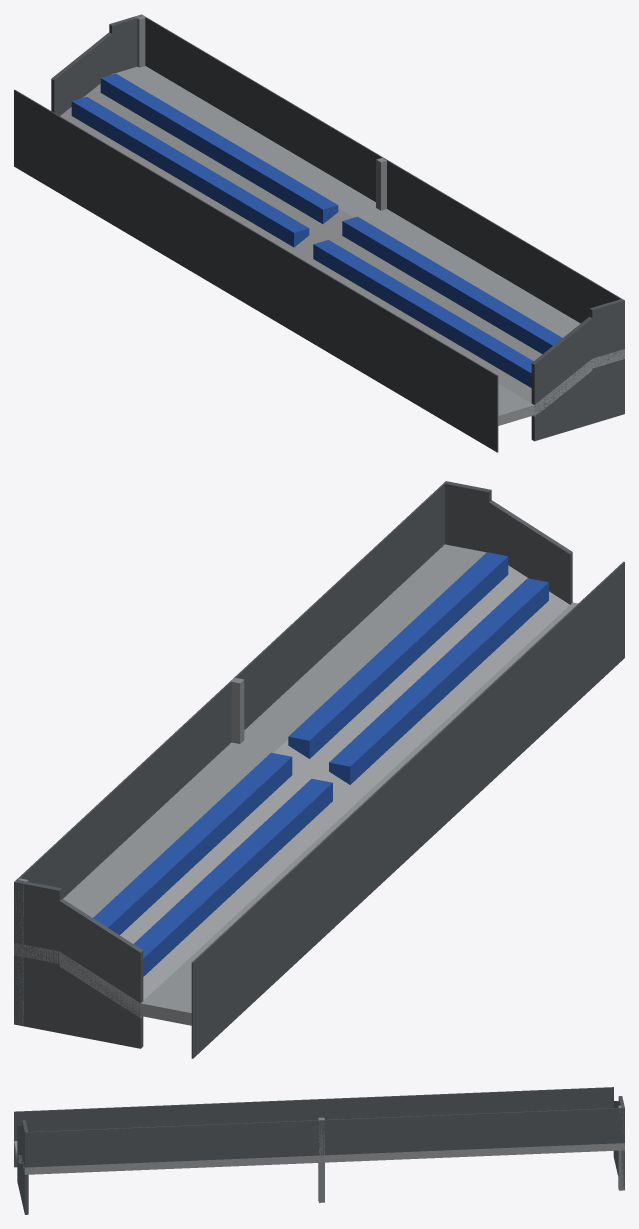
Rendered from mza_stand_trib_p07.glb.
3 renders of one model, top to bottom at view 1: azimuth 30°, elevation 25°; view 2: azimuth 150°, elevation 25°; view 3: azimuth 270°, elevation 25°, orthographic. The views are drawn at different scales.
Parts seen in each view (by area): view 1: monza-trib-p07; view 2: monza-trib-p07; view 3: monza-trib-p07.
Part boxes in pixels (x1,y1,x2,y2): monza-trib-p07: (14, 14, 624, 452); monza-trib-p07: (14, 481, 624, 1058); monza-trib-p07: (14, 1087, 624, 1214).
Size of the model in its own units: 5.31 by 2.82 by 18.96.
